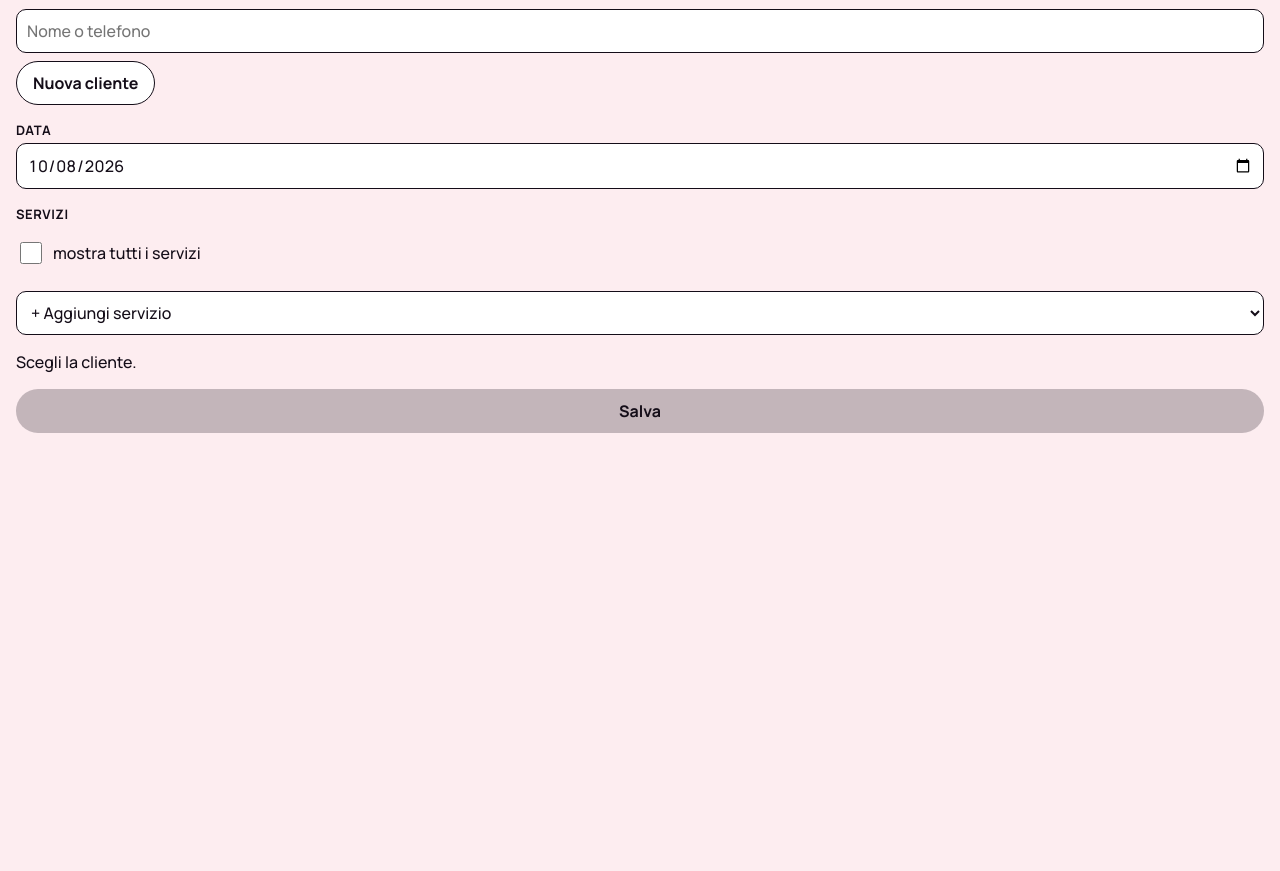
Test: i servizi › «+ Aggiungi servizio» parte dal posto toccato e accoda il secondo con la pausa
Select "Refill gel" in the dropdown named "Aggiungi servizio" at (640, 313), box [16, 291, 1264, 335]
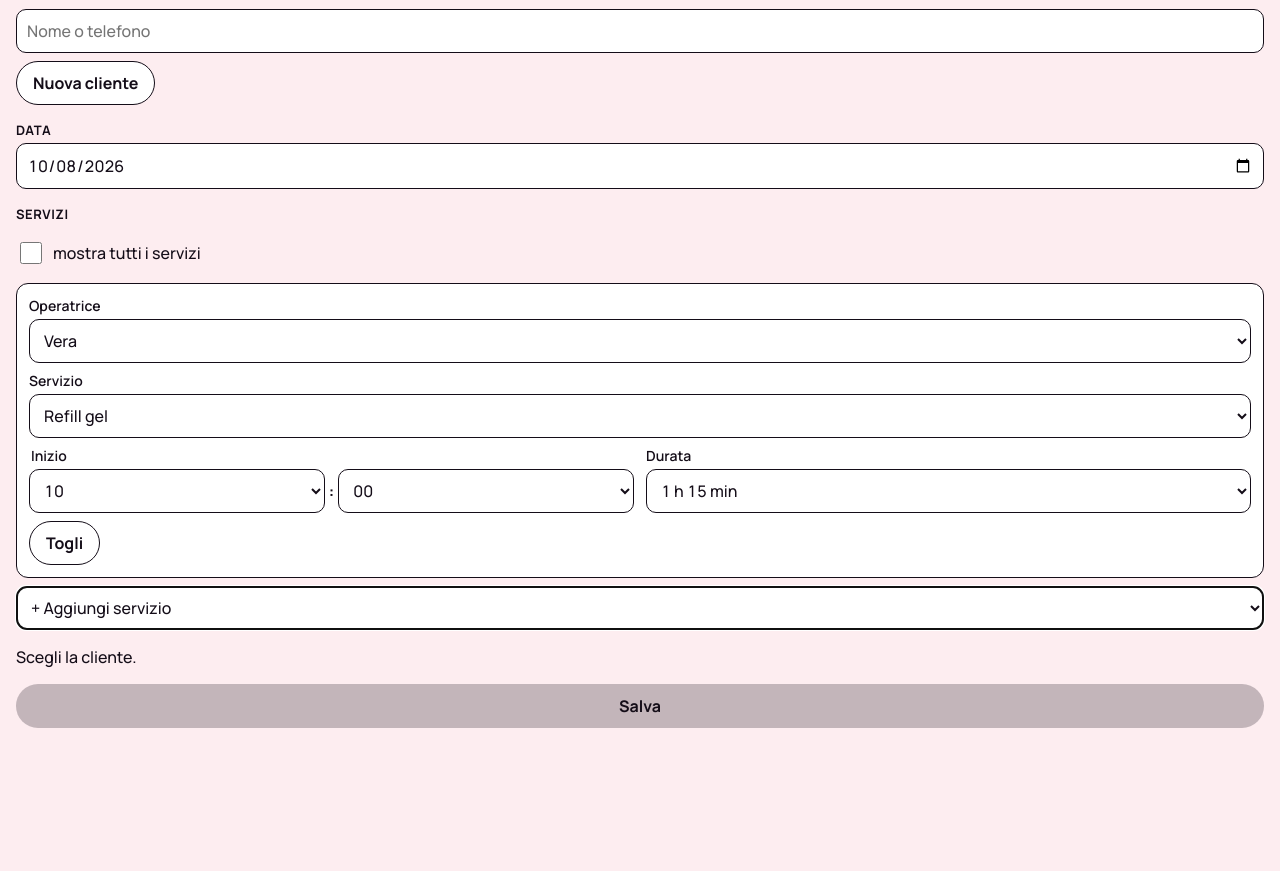
# con «mostra tutti» il massaggio, che Vera non fa
Click the checkbox labelled "mostra tutti i servizi" at (31, 253), box [20, 242, 42, 264]
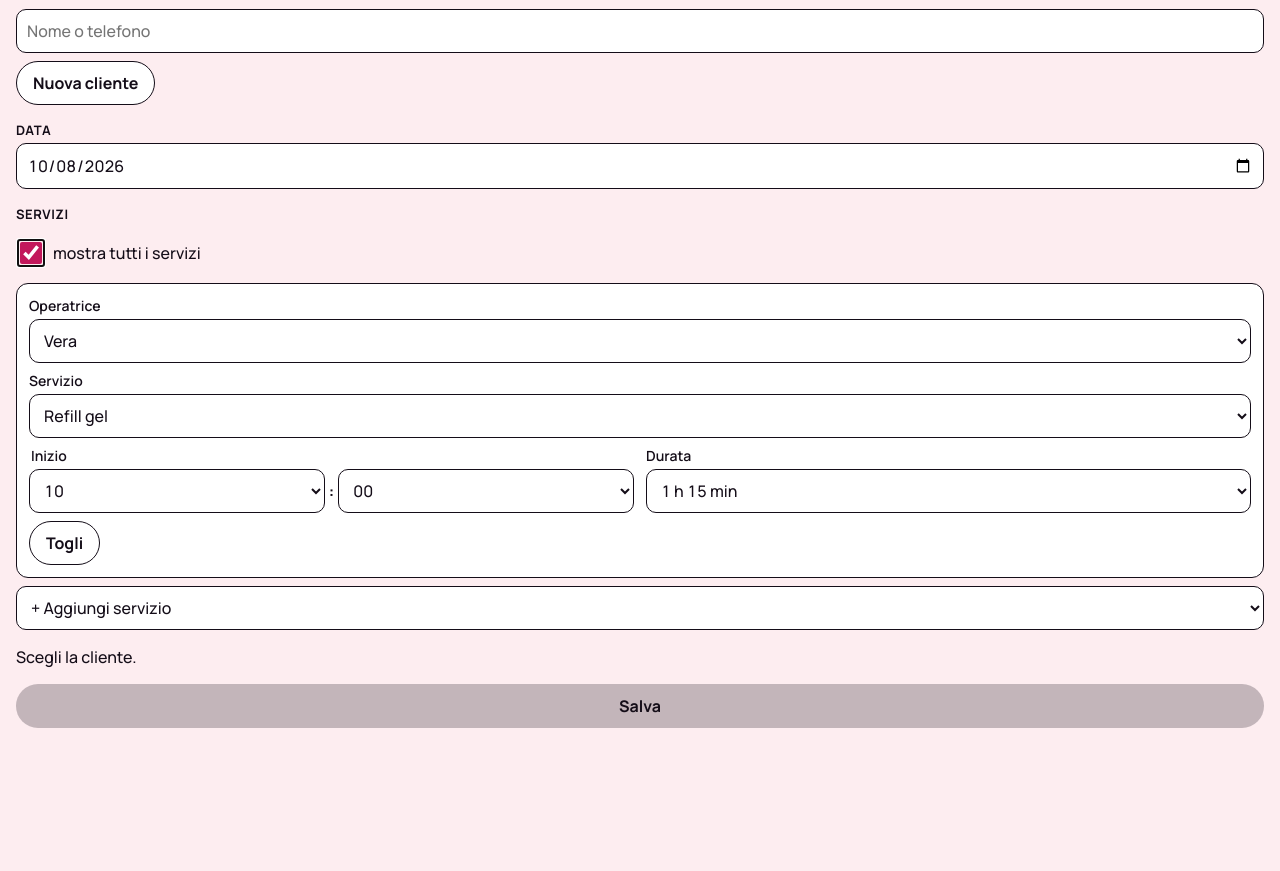
Select "Massaggio" in the dropdown named "Aggiungi servizio" at (640, 608), box [16, 586, 1264, 630]
(page scrolled)
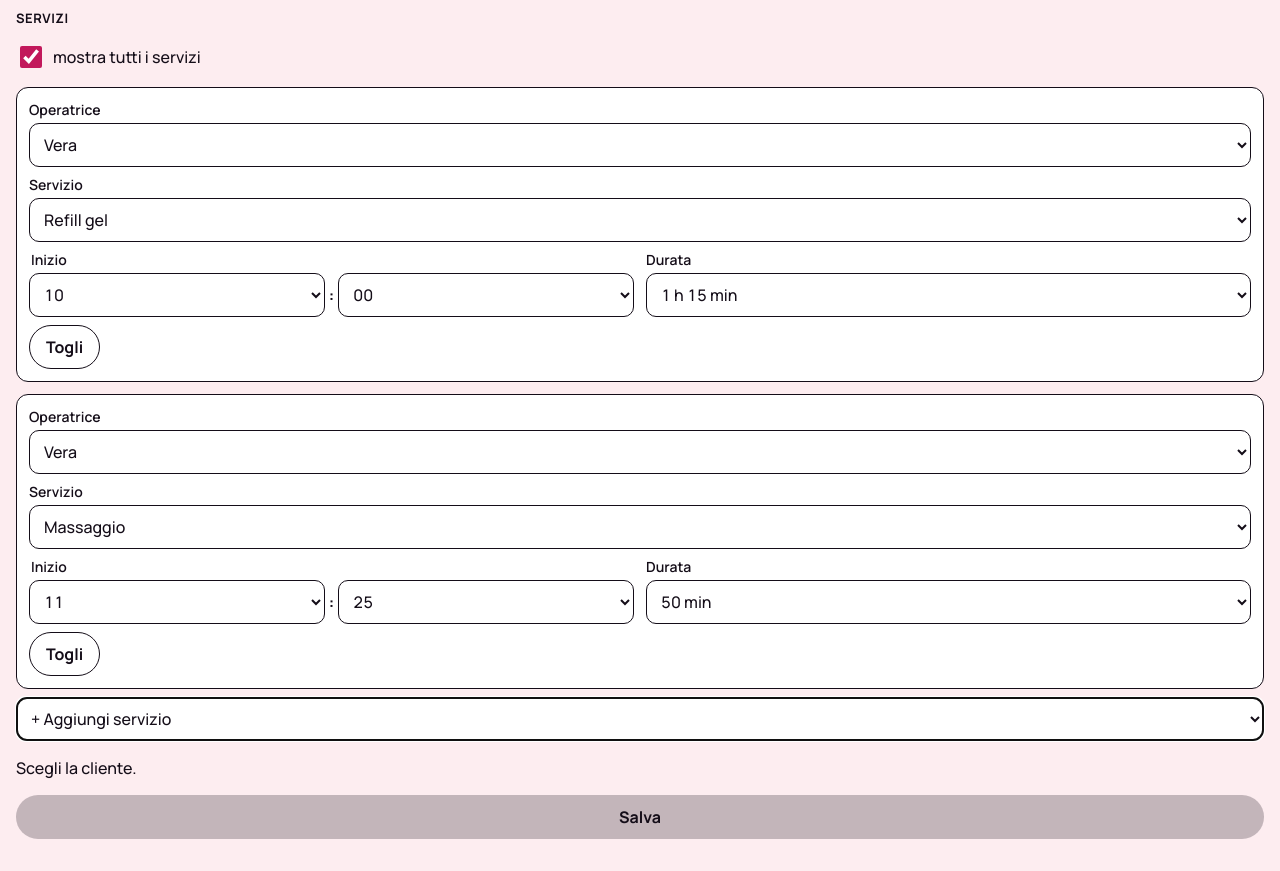
Expected: the list item named "Refill gel alle 10:00" is shown, [16, 87, 1264, 382]
Expected: the list item named "Massaggio alle 11:25" is shown, [16, 394, 1264, 689]
